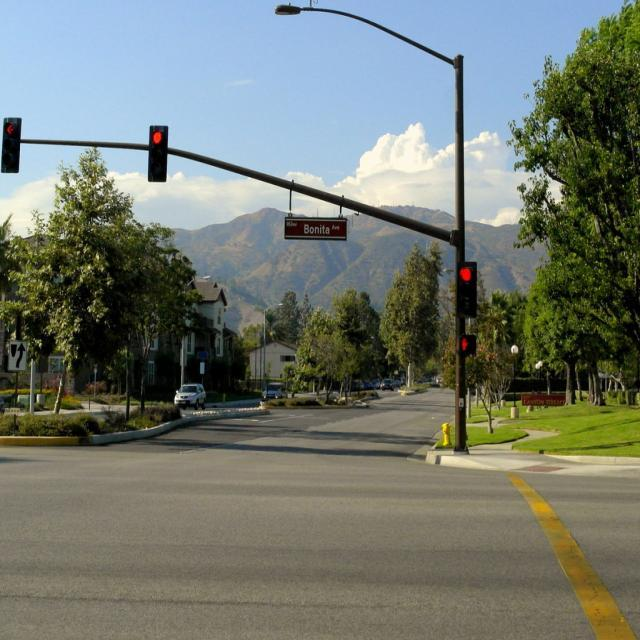traffic light: (147, 123, 169, 182), (0, 115, 20, 170), (458, 261, 477, 316)
